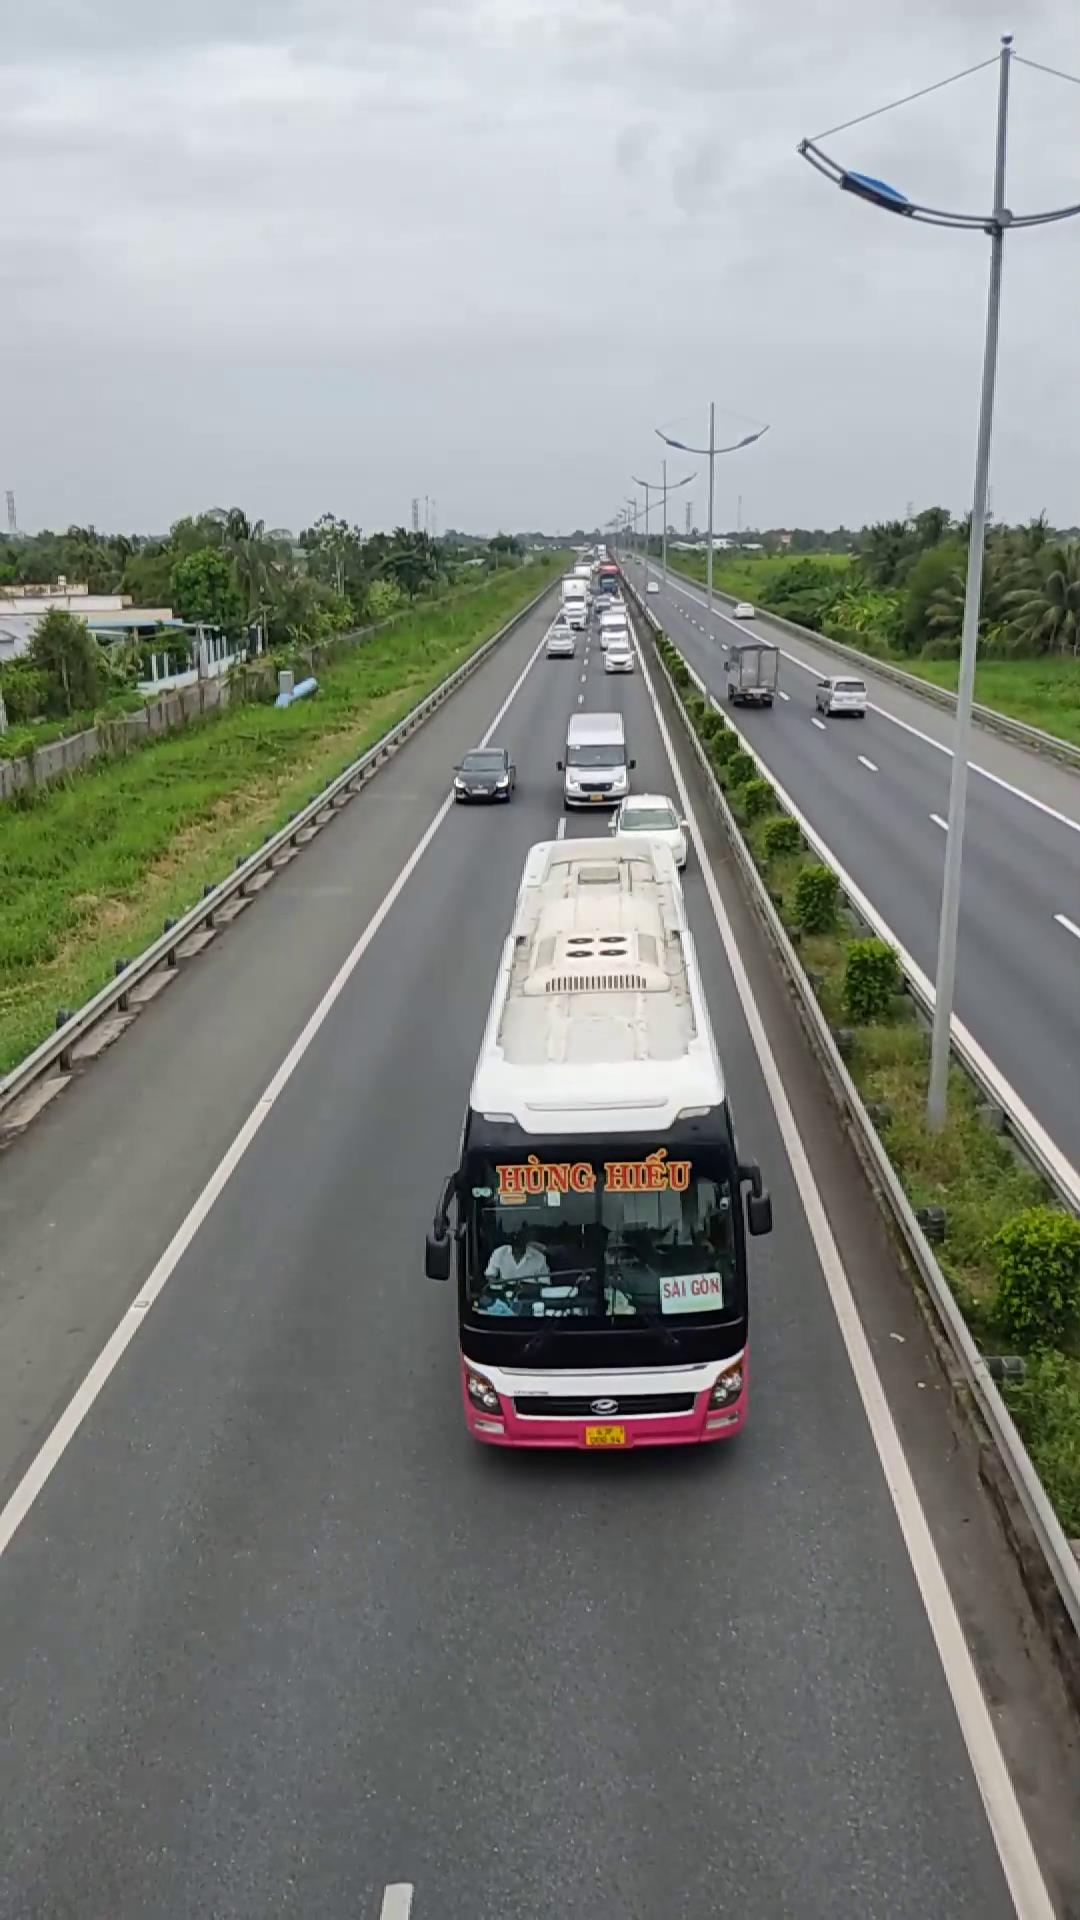bus: (441, 835, 776, 1462)
